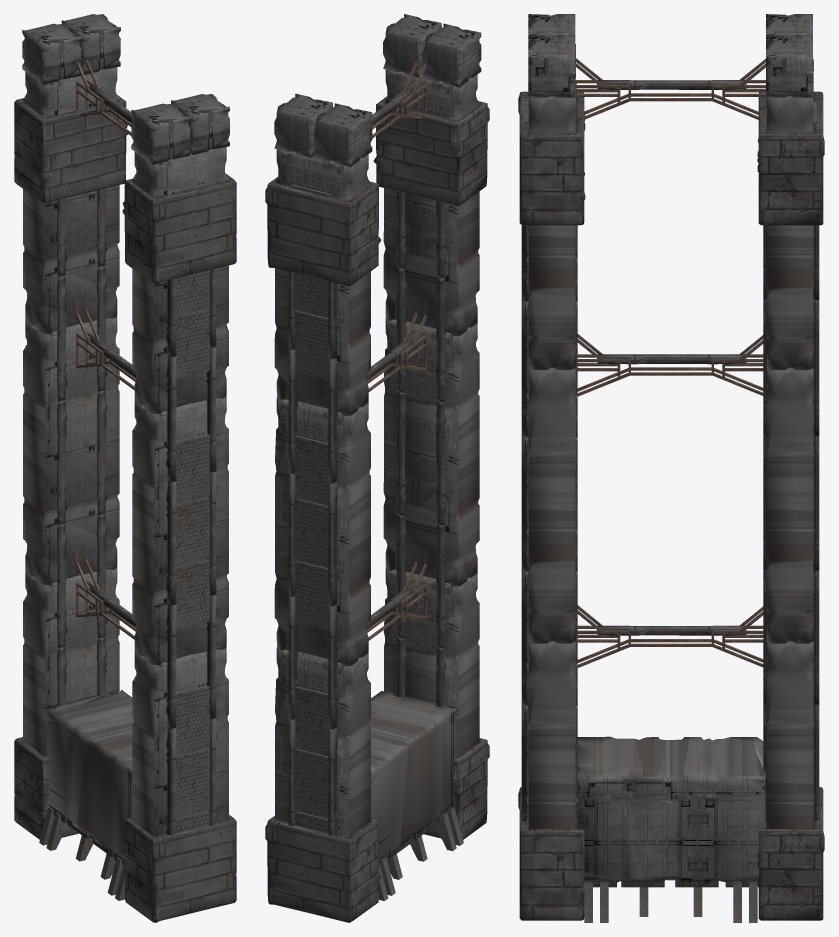
The model's file is LOC0_3.fbx.
The picture shows the model from 3 angles, left to right: view 1: azimuth 30°, elevation 25°; view 2: azimuth 150°, elevation 25°; view 3: azimuth 270°, elevation 25°; orthographic projection. The views are drawn at different scales.
Visible parts, largest first — view 1: CityAsset-0-1.002, Cube.049, CityAsset-0-1.005, CityAsset-0-1.003, CityAsset-0-0.001, CityAsset-0-1.001, CityAsset-0-1.006, CityAsset-3-Apartments_3.103, CityAsset-14.016, CityAsset-14.014, CityAsset-0-1.004, CityAsset-14.017 (+11 smaller); view 2: CityAsset-0-1.005, Cube.047, CityAsset-0-1.002, CityAsset-0-1.006, CityAsset-0-0.001, CityAsset-0-1.004, CityAsset-0-1.003, CityAsset-3-Apartments_3.087, CityAsset-14.017, CityAsset-14.015, CityAsset-14.016, CityAsset-0-1.001 (+11 smaller); view 3: CityAsset-0-0.001, CityAsset-0-1.002, CityAsset-0-1.005, CityAsset-0-1.004, CityAsset-0-1.001, CityAsset-0-1.003, CityAsset-0-1.006, CityAsset-14.017, CityAsset-14.016, CityAsset-14.015, CityAsset-14.014, CityAsset-3-Apartments_3.103 (+13 smaller).
Part boxes in pixels (x1,y1,x2,y2): CityAsset-0-1.002: [23, 316, 119, 585]; Cube.049: [172, 182, 212, 833]; CityAsset-0-1.005: [132, 395, 228, 665]; CityAsset-0-1.003: [23, 67, 119, 333]; CityAsset-0-0.001: [46, 690, 133, 858]; CityAsset-0-1.001: [23, 567, 119, 756]; CityAsset-0-1.006: [132, 147, 228, 413]; CityAsset-3-Apartments_3.103: [165, 268, 216, 835]; CityAsset-14.016: [122, 173, 236, 283]; CityAsset-14.014: [122, 815, 236, 922]; CityAsset-0-1.004: [132, 647, 228, 836]; CityAsset-14.017: [14, 95, 127, 203]; CityAsset-0-1.005: [383, 318, 479, 586]; Cube.047: [291, 184, 330, 833]; CityAsset-0-1.002: [274, 398, 370, 666]; CityAsset-0-1.006: [383, 69, 479, 336]; CityAsset-0-0.001: [369, 691, 456, 858]; CityAsset-0-1.004: [383, 568, 479, 757]; CityAsset-0-1.003: [274, 149, 370, 415]; CityAsset-3-Apartments_3.087: [288, 271, 337, 835]; CityAsset-14.017: [265, 177, 381, 286]; CityAsset-14.015: [265, 816, 381, 922]; CityAsset-14.016: [373, 96, 489, 205]; CityAsset-0-1.001: [275, 648, 370, 837]; CityAsset-0-0.001: [577, 736, 765, 883]; CityAsset-0-1.002: [766, 367, 813, 643]; CityAsset-0-1.005: [528, 367, 575, 643]; CityAsset-0-1.004: [528, 641, 575, 829]; CityAsset-0-1.001: [766, 641, 813, 828]; CityAsset-0-1.003: [766, 59, 813, 369]; CityAsset-0-1.006: [528, 66, 575, 369]; CityAsset-14.017: [757, 91, 824, 225]; CityAsset-14.016: [518, 91, 585, 225]; CityAsset-14.015: [757, 787, 824, 920]; CityAsset-14.014: [518, 787, 585, 920]; CityAsset-3-Apartments_3.103: [521, 225, 528, 821].
Bounding box in the file's own units: 102 × 811 × 260.
